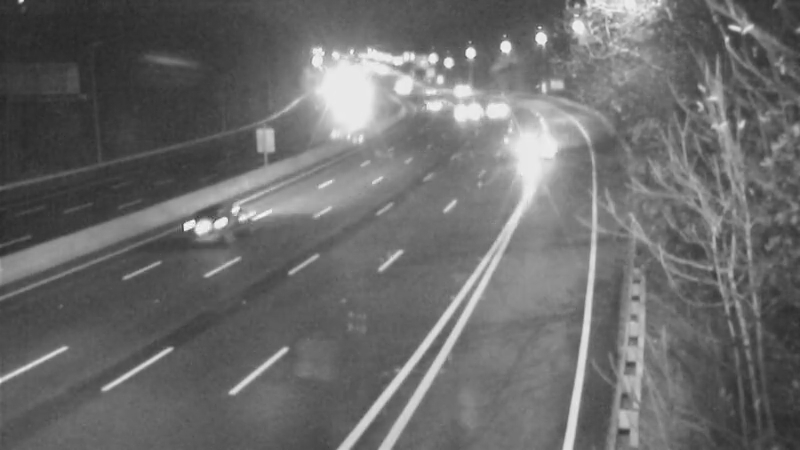vehicle: (161, 187, 241, 267), (434, 62, 484, 112), (375, 61, 425, 111), (399, 66, 449, 116), (401, 80, 451, 130), (441, 87, 491, 137), (470, 81, 520, 131), (501, 119, 551, 169)
